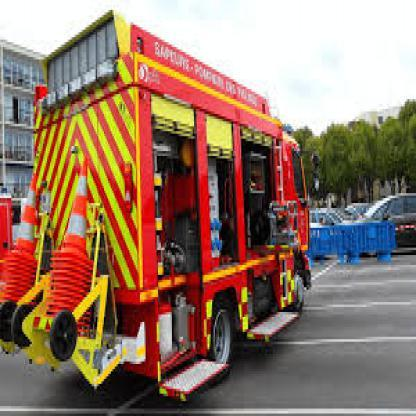fire-truck: (11, 0, 333, 413)
